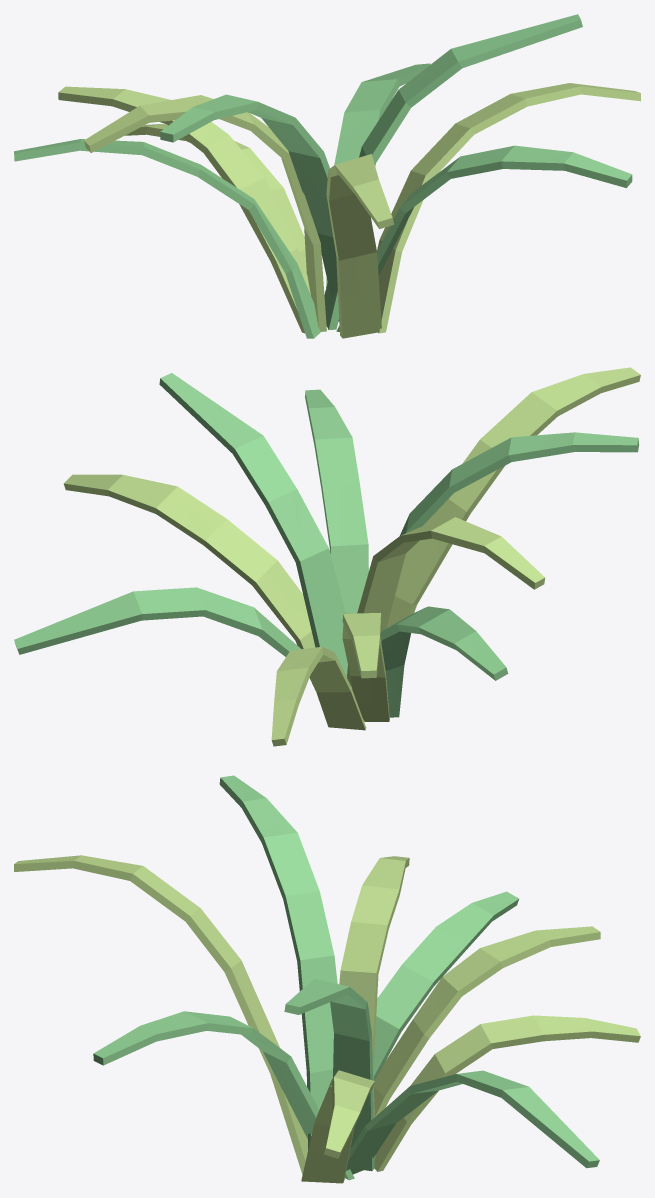
Rendered from grass.fbx.
3 renders of one model, top to bottom at view 1: azimuth 30°, elevation 25°; view 2: azimuth 150°, elevation 25°; view 3: azimuth 270°, elevation 25°, orthographic. The views are drawn at different scales.
Parts seen in each view (by area): view 1: grass_01_Plane.001; view 2: grass_01_Plane.001; view 3: grass_01_Plane.001.
Part boxes in pixels (bbox=[...]): grass_01_Plane.001: bbox=[14, 14, 640, 338]; grass_01_Plane.001: bbox=[14, 367, 640, 746]; grass_01_Plane.001: bbox=[14, 775, 640, 1183].
Bounding box in the file's own units: 39073 × 20260 × 40526.
